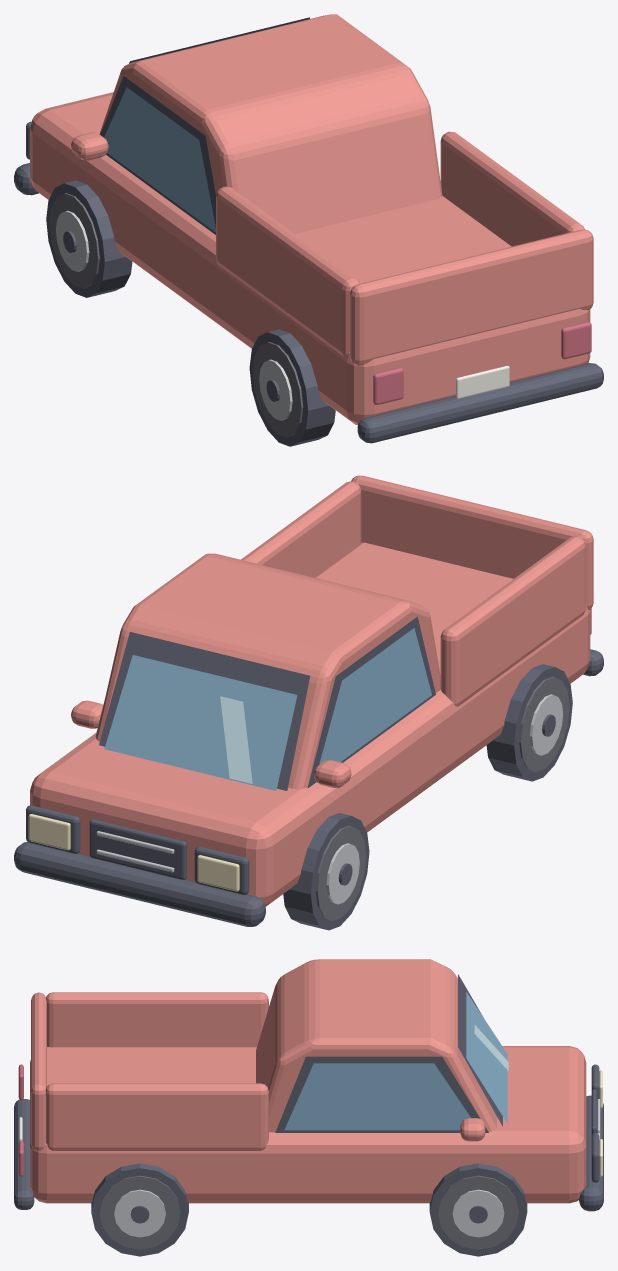
File: pickup.glb
The picture shows the model from 3 angles, top to bottom: view 1: azimuth 30°, elevation 25°; view 2: azimuth 150°, elevation 25°; view 3: azimuth 270°, elevation 25°; orthographic projection. The views are drawn at different scales.
Visible parts, largest first — view 1: Shaped_passenger_cabin, Chassis, Tailgate, Bed_side, Bed_side.001, Side_glass, Rear_bumper, Rubber_tire, Rubber_tire.002, Wheel_sidewall.002, Wheel_sidewall, Side_window_seal (+6 smaller); view 2: Chassis, Shaped_passenger_cabin, Blue_windscreen, Tailgate, Bed_side, Front_bumper, Side_glass, Bed_side.001, Dark_windscreen_seal, Rubber_tire.002, Rubber_tire, Grille (+12 smaller); view 3: Chassis, Shaped_passenger_cabin, Bed_side.001, Bed_side, Side_glass.001, Side_window_seal.001, Wheel_sidewall.003, Wheel_sidewall.001, Rubber_tire.001, Rubber_tire.003, Blue_windscreen, Tailgate (+7 smaller).
Part boxes in pixels (bbox=[...]): Shaped_passenger_cabin: bbox=[99, 14, 442, 233]; Chassis: bbox=[30, 92, 590, 425]; Tailgate: bbox=[350, 229, 593, 365]; Bed_side: bbox=[216, 186, 359, 356]; Bed_side.001: bbox=[440, 131, 584, 246]; Side_glass: bbox=[104, 87, 215, 232]; Rear_bumper: bbox=[357, 363, 603, 443]; Rubber_tire: bbox=[46, 180, 132, 297]; Rubber_tire.002: bbox=[249, 329, 335, 446]; Wheel_sidewall.002: bbox=[252, 342, 303, 437]; Wheel_sidewall: bbox=[49, 193, 99, 288]; Side_window_seal: bbox=[100, 76, 215, 234]; Chassis: bbox=[30, 542, 590, 906]; Shaped_passenger_cabin: bbox=[96, 553, 440, 789]; Blue_windscreen: bbox=[104, 655, 297, 790]; Tailgate: bbox=[351, 475, 593, 609]; Bed_side: bbox=[440, 536, 585, 706]; Front_bumper: bbox=[14, 842, 265, 926]; Side_glass: bbox=[315, 628, 431, 780]; Bed_side.001: bbox=[241, 481, 361, 577]; Dark_windscreen_seal: bbox=[99, 632, 310, 790]; Rubber_tire.002: bbox=[486, 664, 572, 781]; Rubber_tire: bbox=[283, 813, 369, 930]; Grille: bbox=[89, 819, 186, 879]; Chassis: bbox=[30, 1046, 586, 1203]; Shaped_passenger_cabin: bbox=[256, 959, 496, 1132]; Bed_side.001: bbox=[46, 1083, 268, 1150]; Bed_side: bbox=[46, 992, 268, 1047]; Side_glass.001: bbox=[284, 1063, 470, 1130]; Side_window_seal.001: bbox=[275, 1056, 488, 1132]; Wheel_sidewall.003: bbox=[99, 1175, 180, 1249]; Wheel_sidewall.001: bbox=[438, 1175, 518, 1249]; Rubber_tire.001: bbox=[429, 1163, 527, 1256]; Rubber_tire.003: bbox=[91, 1163, 188, 1256]; Blue_windscreen: bbox=[466, 992, 507, 1123]; Tailgate: bbox=[31, 992, 46, 1151].
Bounding box in the file's own units: 2.35 × 1.98 × 5.19.
